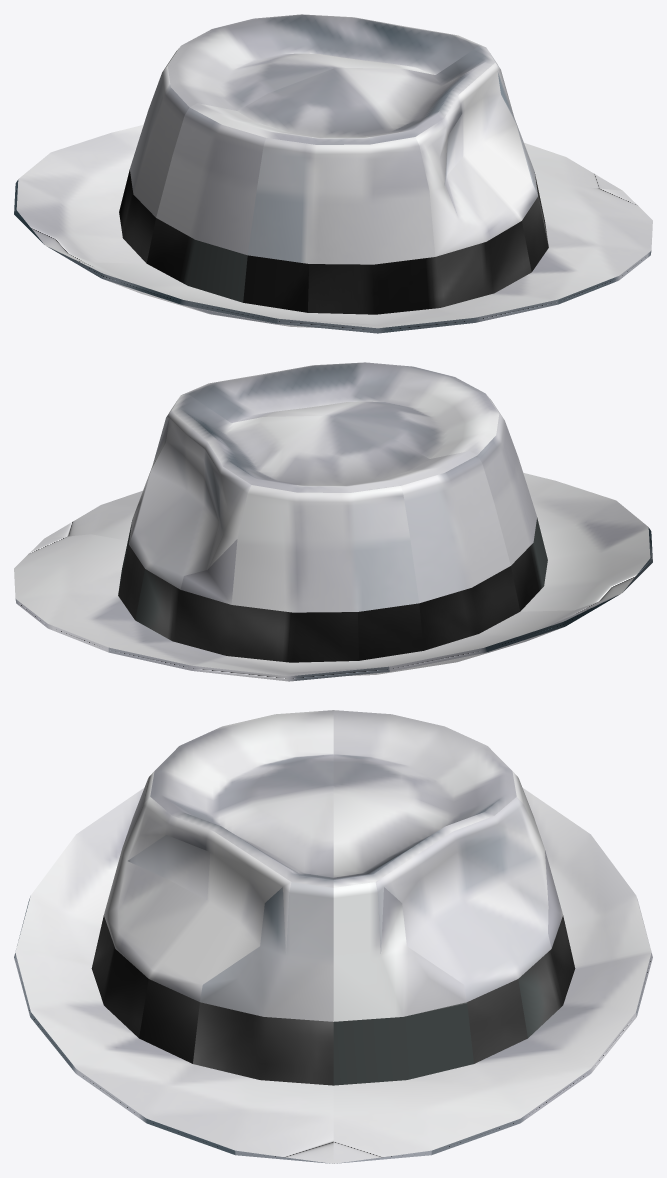
3 views of the same model, one above another, from view 1: azimuth 30°, elevation 25°; view 2: azimuth 150°, elevation 25°; view 3: azimuth 270°, elevation 25° (orthographic). The views are drawn at different scales.
Visible parts, largest first — view 1: 10; view 2: 10; view 3: 10.
Part boxes in pixels (bbox=[...]): 10: bbox=[14, 14, 652, 333]; 10: bbox=[14, 362, 652, 681]; 10: bbox=[14, 710, 652, 1163].
Size of the model in its own units: 2.07 by 0.66 by 1.75.
1 material, 1 textured.
